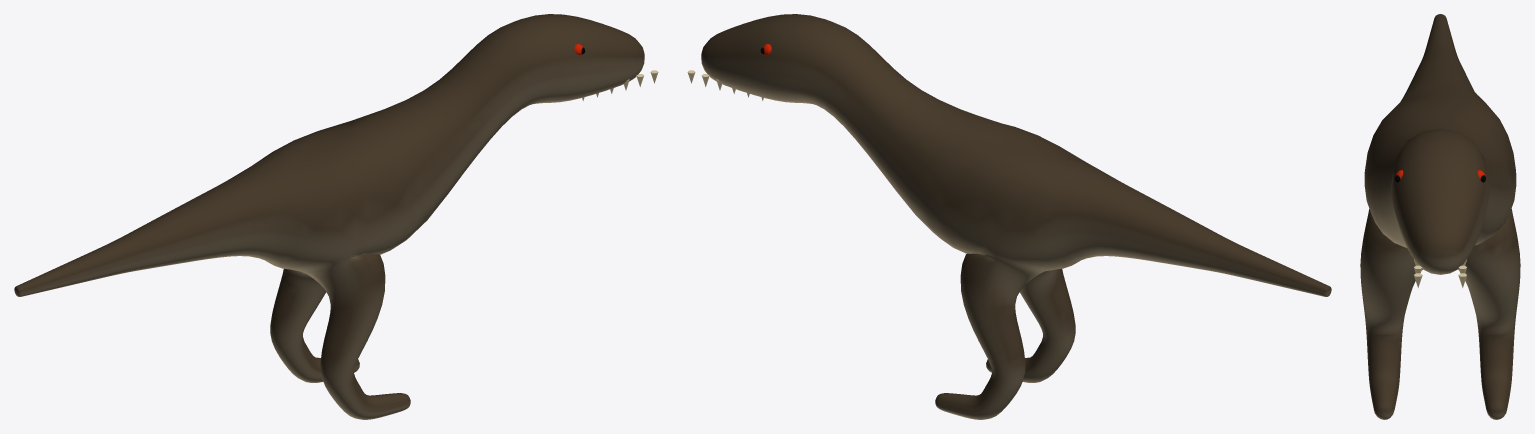
Rendered from trex.glb.
The picture shows the model from 3 angles, left to right: view 1: azimuth 30°, elevation 25°; view 2: azimuth 150°, elevation 25°; view 3: azimuth 270°, elevation 25°; orthographic projection. The views are drawn at different scales.
Parts seen in each view (by area): view 1: corpo; view 2: corpo; view 3: corpo.
Part boxes in pixels (x1,y1,x2,y2): corpo: [14, 14, 658, 419]; corpo: [687, 14, 1331, 419]; corpo: [1360, 14, 1520, 419].
Size of the model in its own units: 5.07 by 2.55 by 1.01.
